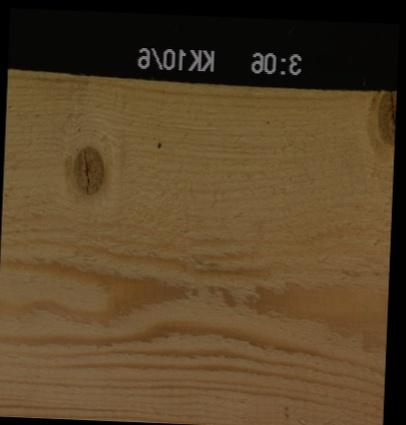edge_knot: (375, 88, 394, 145)
sound_knot: (71, 144, 105, 196)
